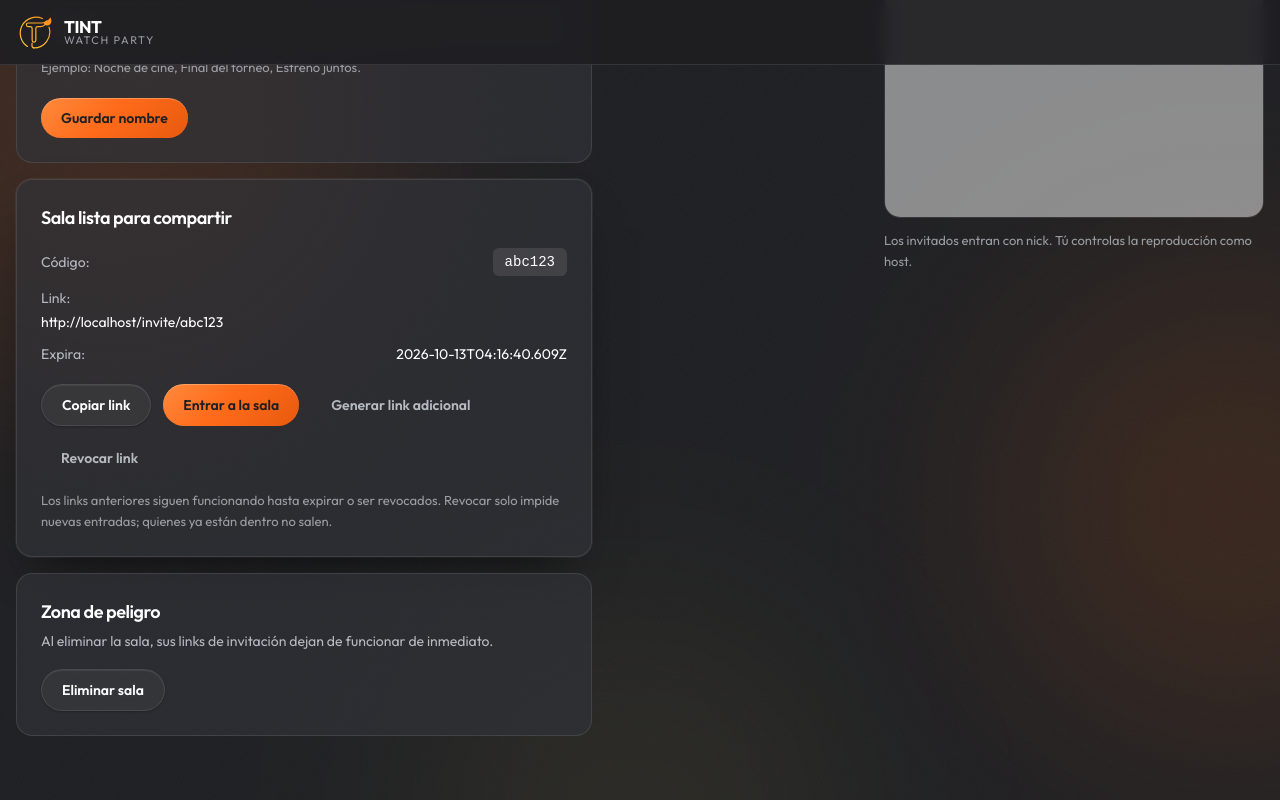
Test: CreateRoom › modo gestionar: no elimina si se cancela la confirmación
This screenshot has width=1280, height=800.
(page scrolled)
Expected: the field showing "Cine" is shown, [41,2,567,48]
Click the button "Eliminar sala".
click(103, 690)  # box [41,669,165,711]
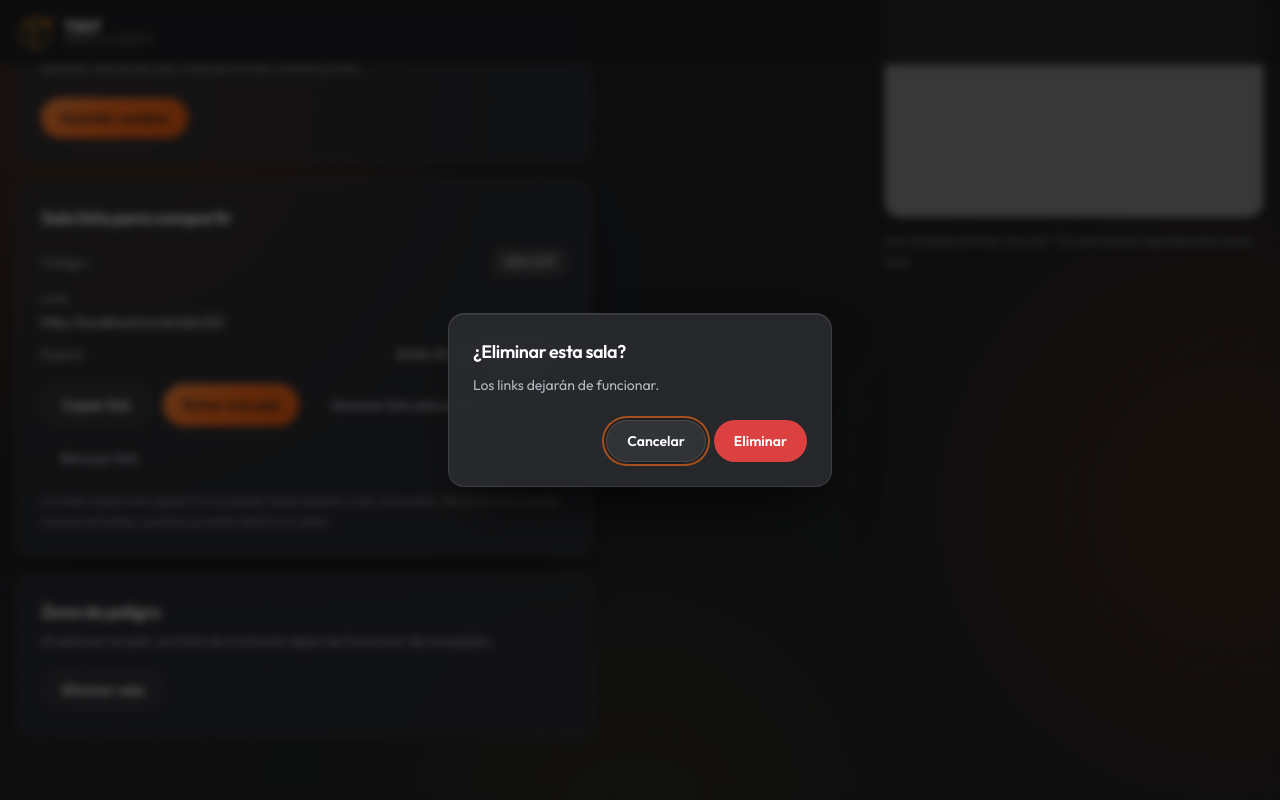
Click the button "Cancelar".
click(656, 441)  # box [606,420,706,462]
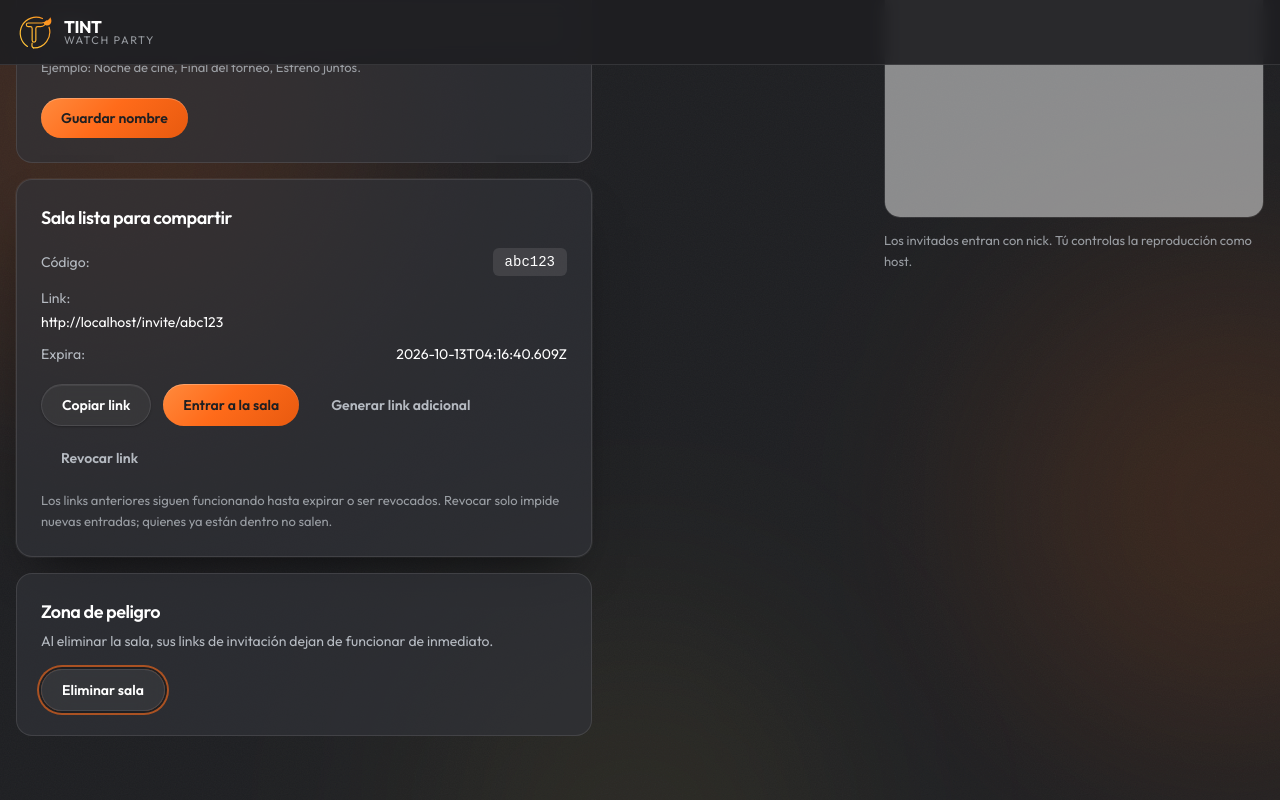
Expected: the field showing "Cine" is shown, [41,2,567,48]
Now the dialog is gone
